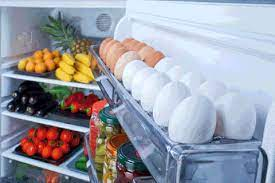eggs: (153, 77, 211, 135), (201, 71, 254, 132), (127, 64, 168, 101), (123, 30, 166, 63), (160, 56, 197, 93), (100, 36, 140, 69)
